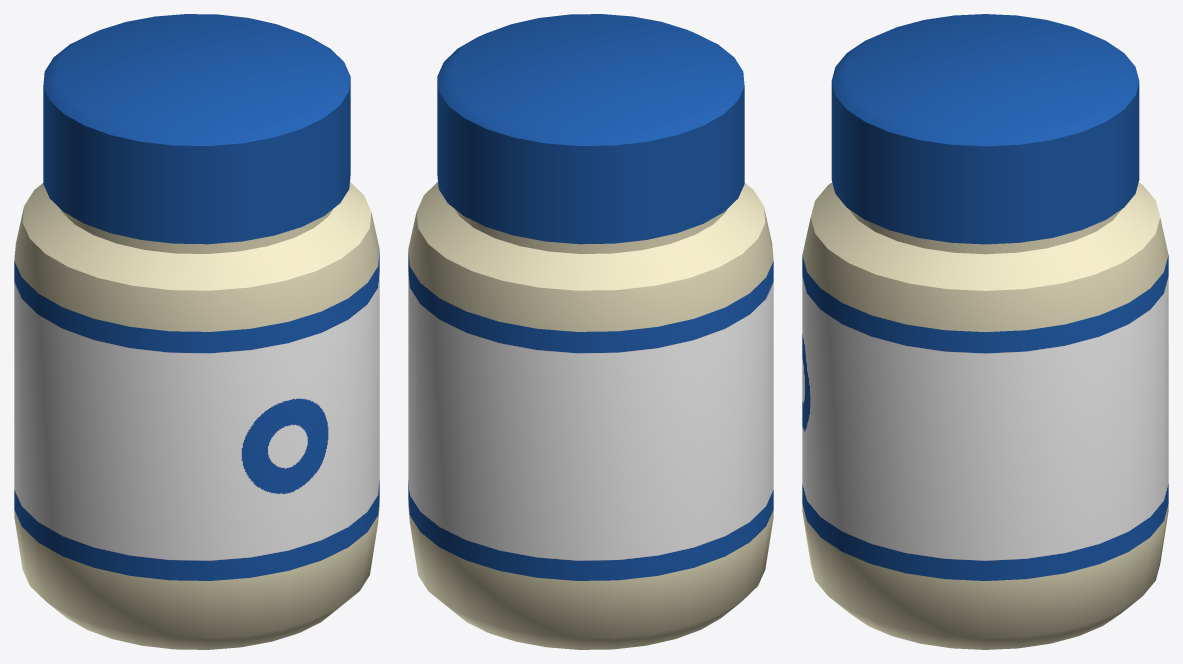
Rendered from Mayonnaise.fbx.
3 renders of one model, left to right at view 1: azimuth 30°, elevation 25°; view 2: azimuth 150°, elevation 25°; view 3: azimuth 270°, elevation 25°, orthographic.
Visible parts, largest first — view 1: Mayonnaise; view 2: Mayonnaise; view 3: Mayonnaise.
Boxes of the visible parts, <box> form: Mayonnaise: <box>14,14,379,649</box>; Mayonnaise: <box>408,14,773,649</box>; Mayonnaise: <box>802,14,1168,649</box>.
Size of the model in its own units: 0.088 by 0.136 by 0.088.
Materials: 3 (1 with a texture image).
